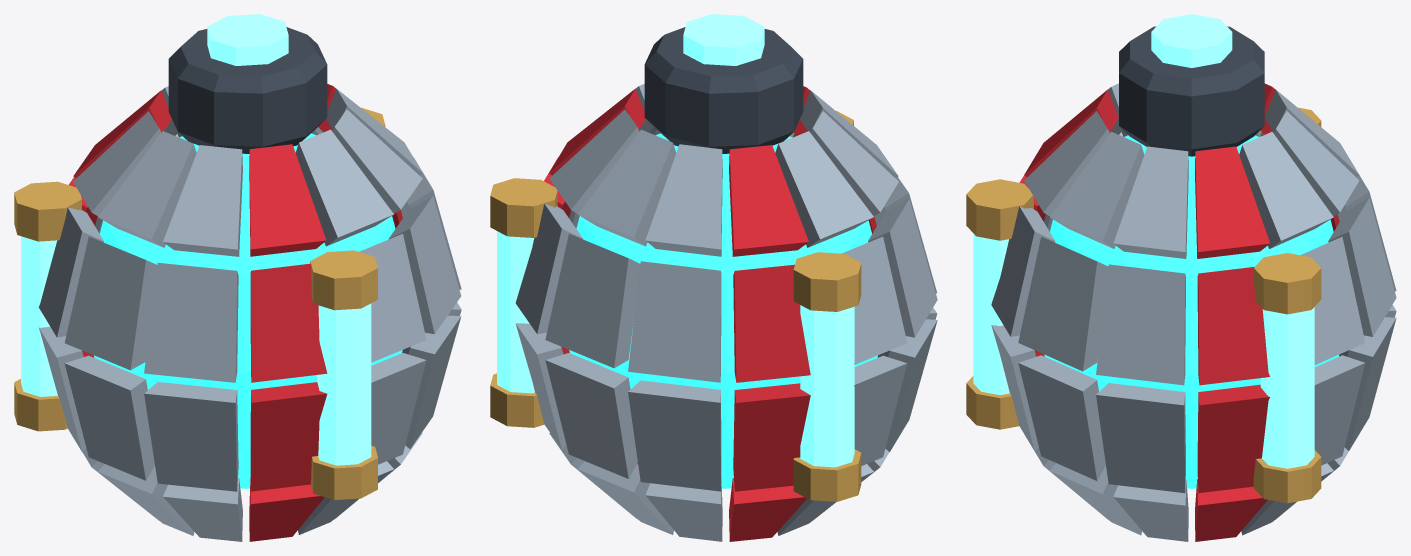
The model's file is web_bomb_canister.fbx.
The picture shows the model from 3 angles, left to right: view 1: azimuth 30°, elevation 25°; view 2: azimuth 150°, elevation 25°; view 3: azimuth 270°, elevation 25°; orthographic projection.
Visible parts, largest first — view 1: web_bomb_canister; view 2: web_bomb_canister; view 3: web_bomb_canister.
Part boxes in pixels (x1,y1,x2,y2): web_bomb_canister: [14, 14, 461, 541]; web_bomb_canister: [490, 14, 937, 541]; web_bomb_canister: [966, 14, 1396, 541].
Size of the model in its own units: 100 by 120 by 100.
